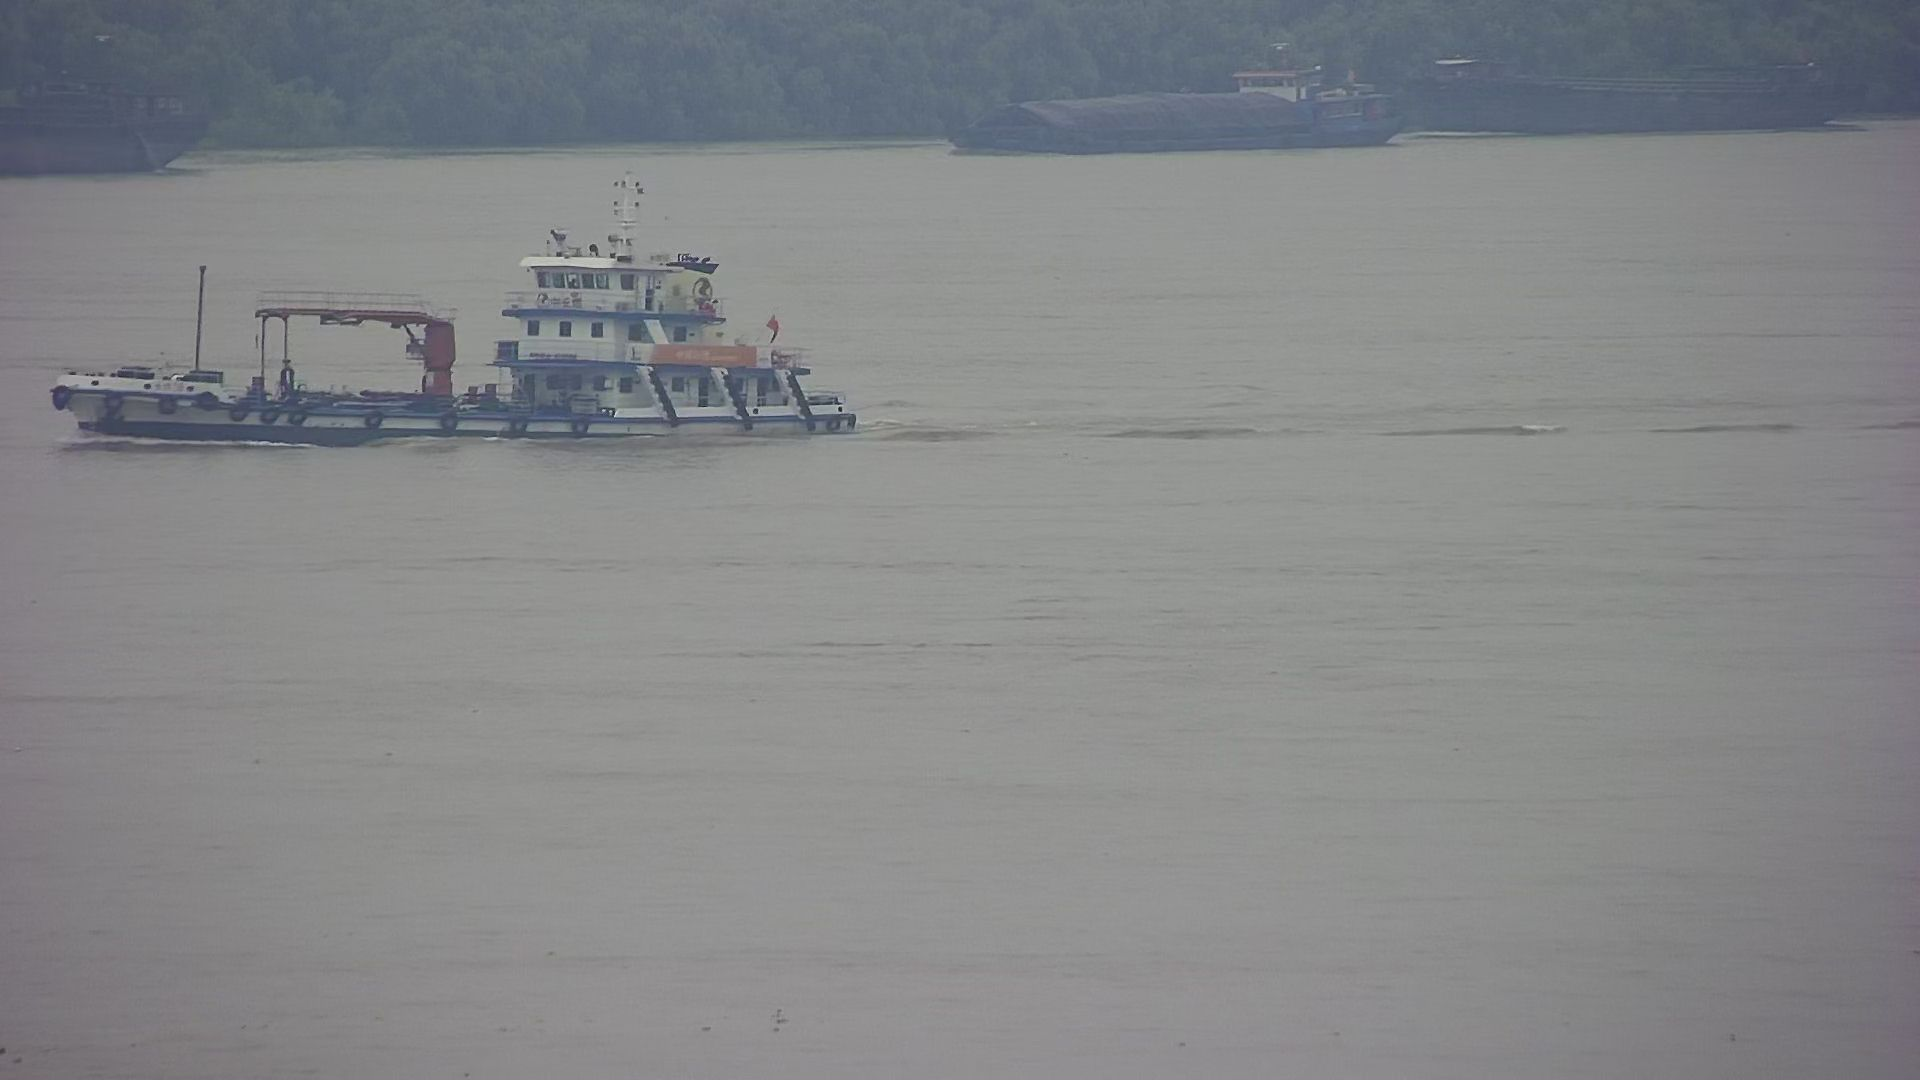ship: (55, 199, 855, 442), (949, 67, 1403, 152), (1408, 54, 1857, 132), (3, 80, 210, 179)
